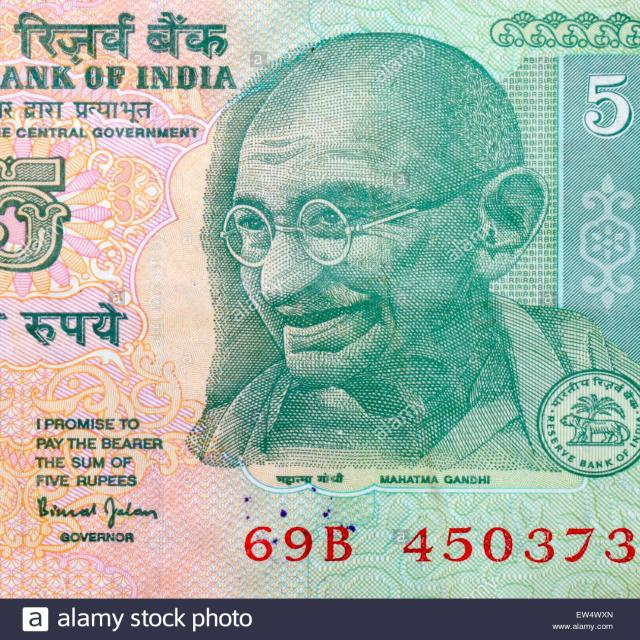5IndianRupees: (4, 2, 630, 575)
